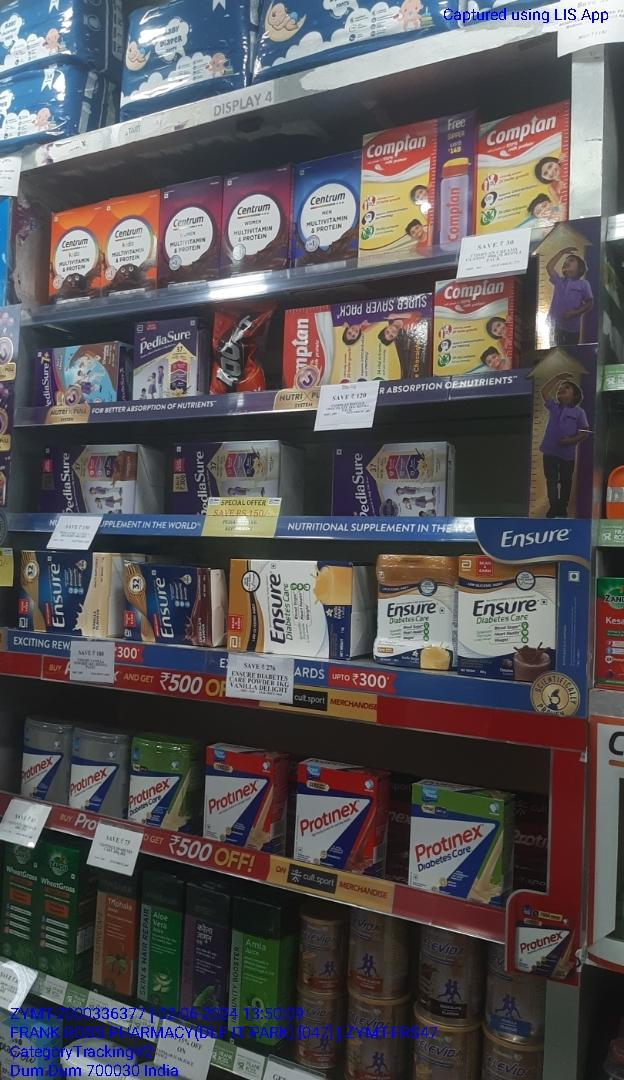PROTINEX_ORIGINAL_400_G_JAR: (69, 729, 129, 812), (23, 716, 69, 800)
